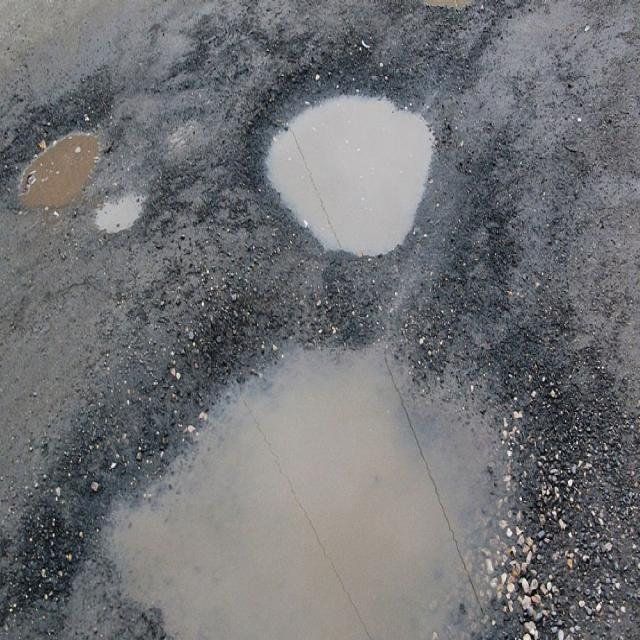bad-road: (98, 328, 526, 640), (245, 91, 439, 261), (18, 128, 100, 214), (96, 190, 150, 236), (425, 0, 475, 12)
